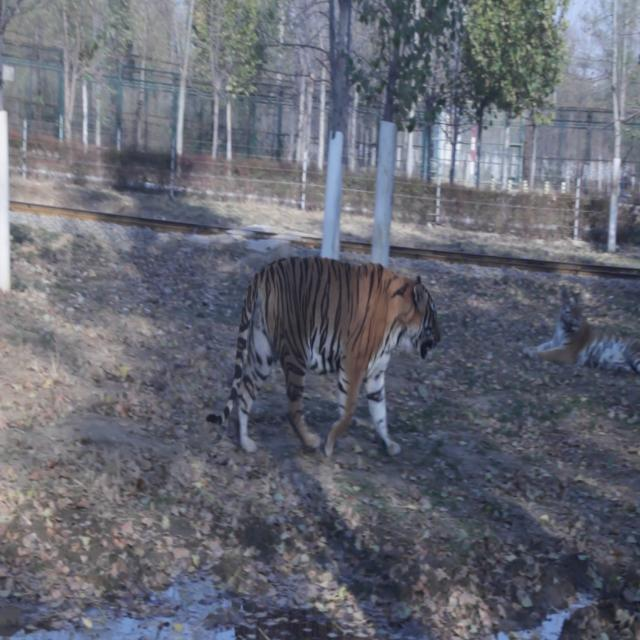Tiger: (201, 239, 442, 488), (523, 284, 640, 393)
